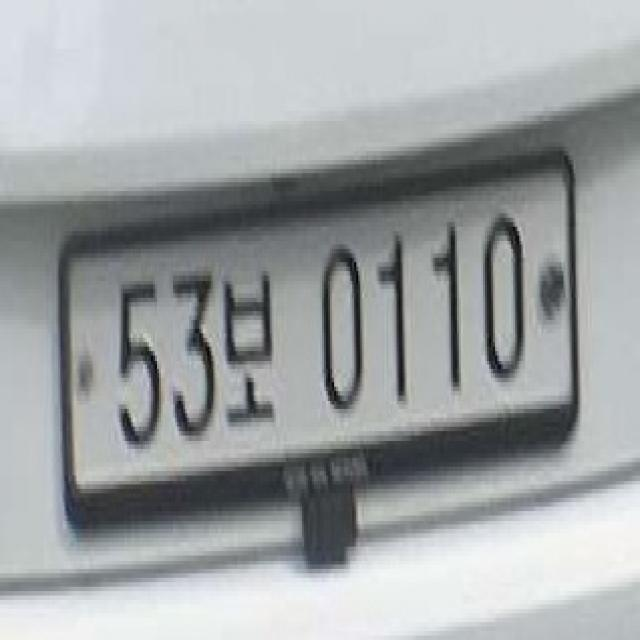0: (316, 213, 368, 440), (477, 196, 533, 400)
1: (429, 204, 477, 409), (374, 213, 415, 418)
3: (171, 266, 219, 466)
5: (111, 271, 169, 471)
bo: (215, 266, 280, 426)
license_plate: (54, 133, 580, 560)
